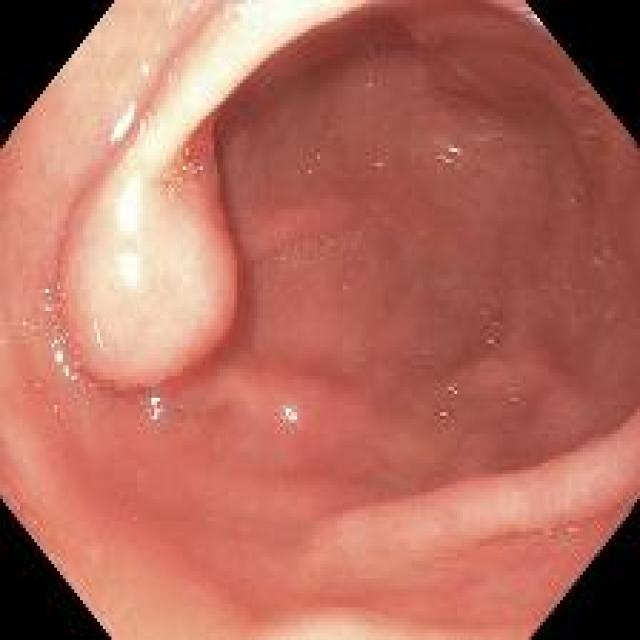Polyps: (59, 131, 238, 388)
